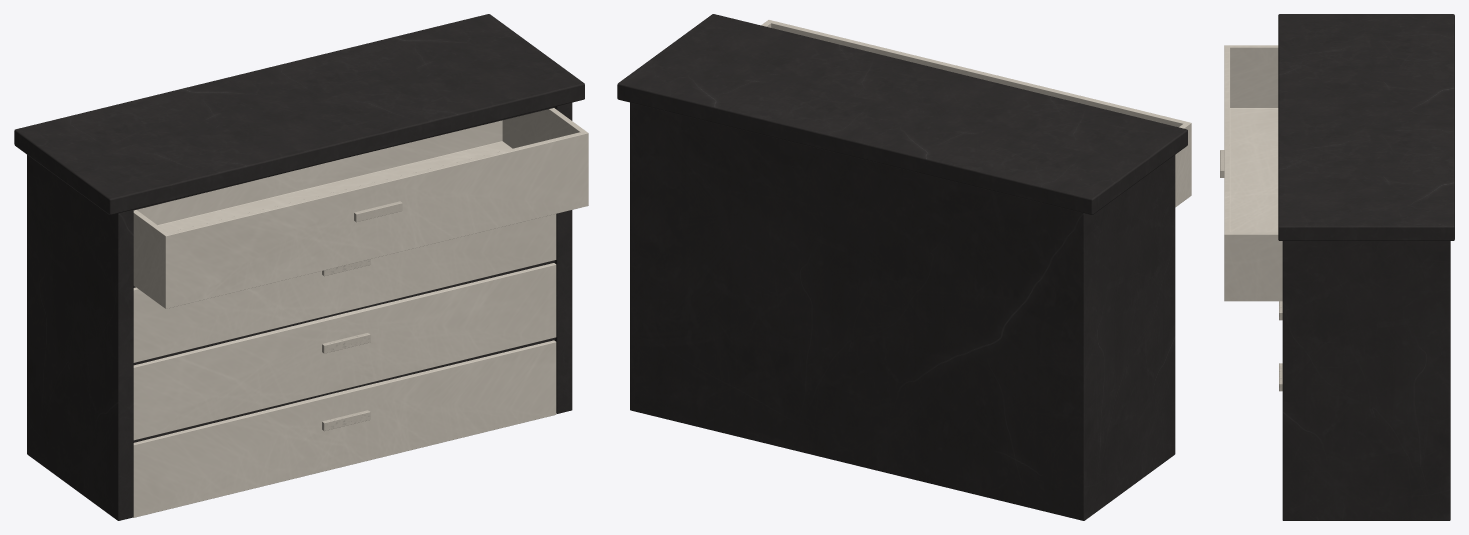
The model's file is Drawer Open.fbx.
3 renders of one model, left to right at view 1: azimuth 30°, elevation 25°; view 2: azimuth 150°, elevation 25°; view 3: azimuth 270°, elevation 25°, orthographic. The views are drawn at different scales.
Visible parts, largest first — view 1: Drawer .001, Drawer.005, Drawer.007, Drawer.008, Drawer.006; view 2: Drawer .001, Drawer.005; view 3: Drawer .001, Drawer.005.
Boxes of the visible parts, x1,y1,x2,y2 form: Drawer .001: (14, 14, 584, 520); Drawer.005: (133, 108, 588, 308); Drawer.007: (133, 263, 556, 440); Drawer.008: (133, 340, 556, 517); Drawer.006: (133, 214, 556, 362); Drawer .001: (617, 14, 1187, 520); Drawer.005: (761, 20, 1191, 207); Drawer .001: (1278, 14, 1454, 520); Drawer.005: (1220, 45, 1282, 301).
Size of the model in its own units: 2.25 by 1.05 by 1.48.
